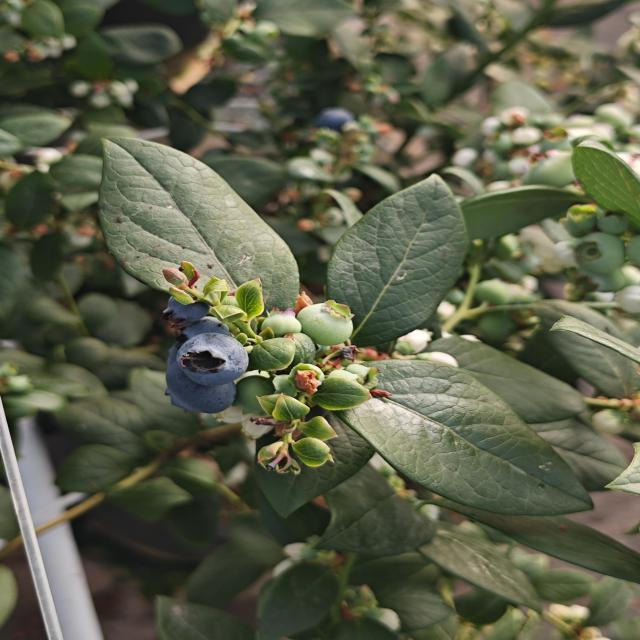ripe: (158, 356, 238, 417), (173, 330, 251, 389), (158, 294, 238, 334), (309, 107, 365, 135)
